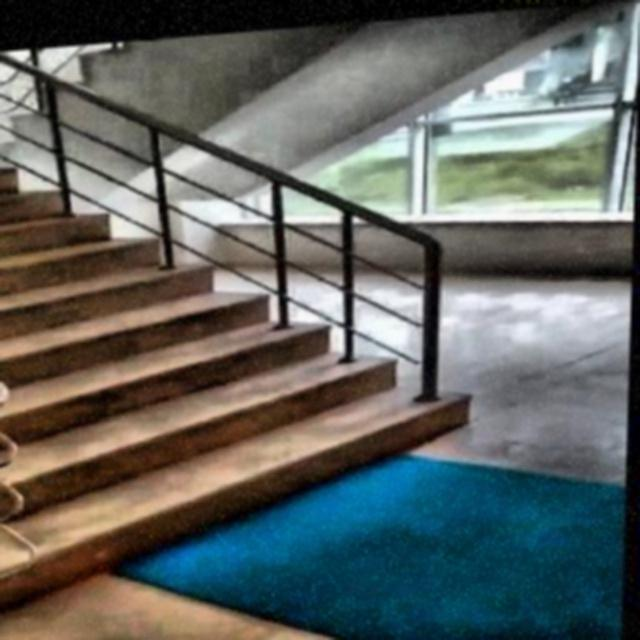stair: (1, 43, 528, 608)
